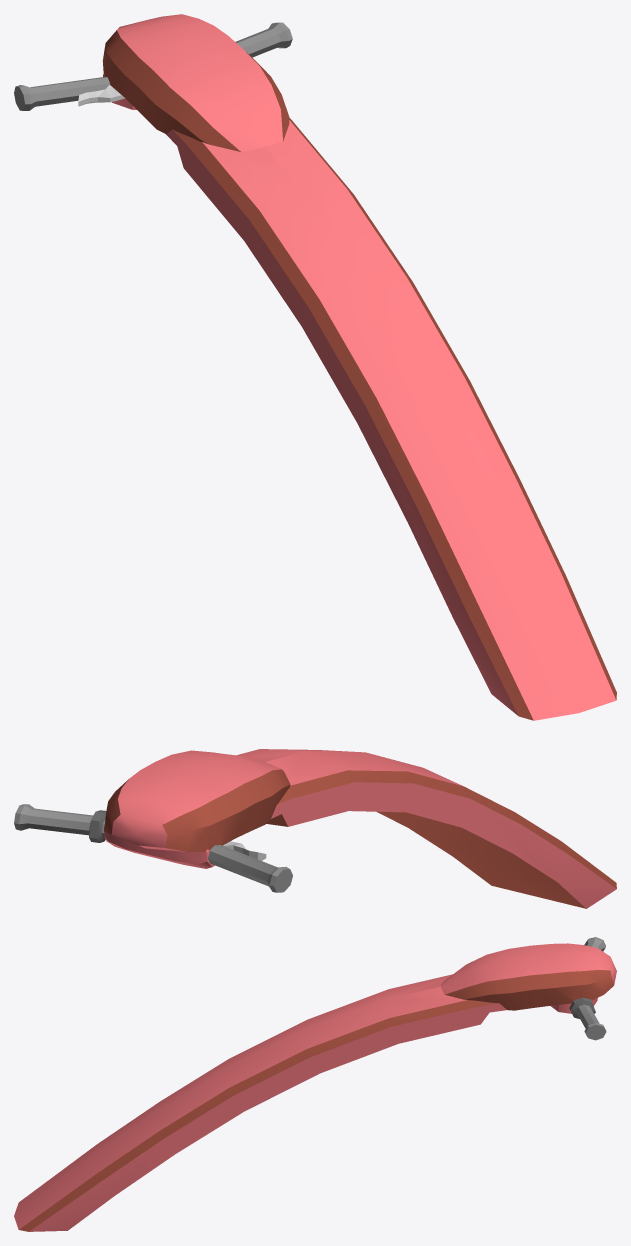
File: Handle.glb
The picture shows the model from 3 angles, top to bottom: view 1: azimuth 30°, elevation 25°; view 2: azimuth 150°, elevation 25°; view 3: azimuth 270°, elevation 25°; orthographic projection. The views are drawn at different scales.
Parts seen in each view (by area): view 1: Handle; view 2: Handle; view 3: Handle.
Boxes of the visible parts, x1=… form: Handle: x1=14, y1=14, x2=616, y2=720; Handle: x1=14, y1=749, x2=616, y2=908; Handle: x1=14, y1=937, x2=616, y2=1231.
Bounding box in the file's own units: 0.5293 × 0.7275 × 1.51.
